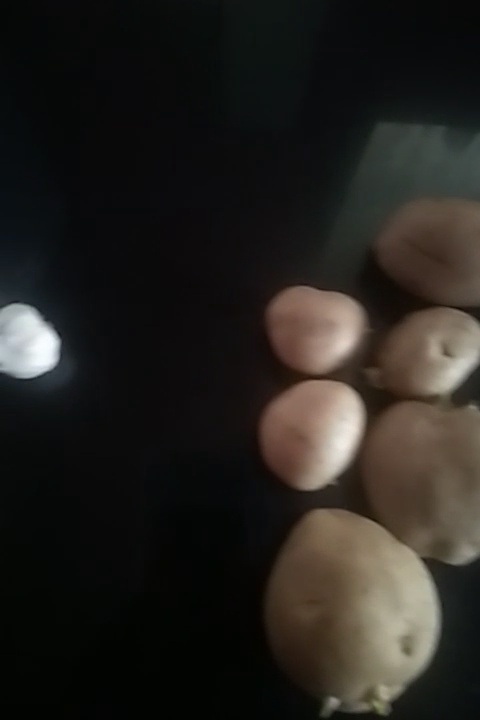garlic: (1, 296, 66, 386)
potato: (265, 506, 443, 710), (367, 402, 480, 564), (372, 195, 480, 309), (258, 378, 366, 487), (374, 306, 480, 400), (267, 280, 370, 367)
